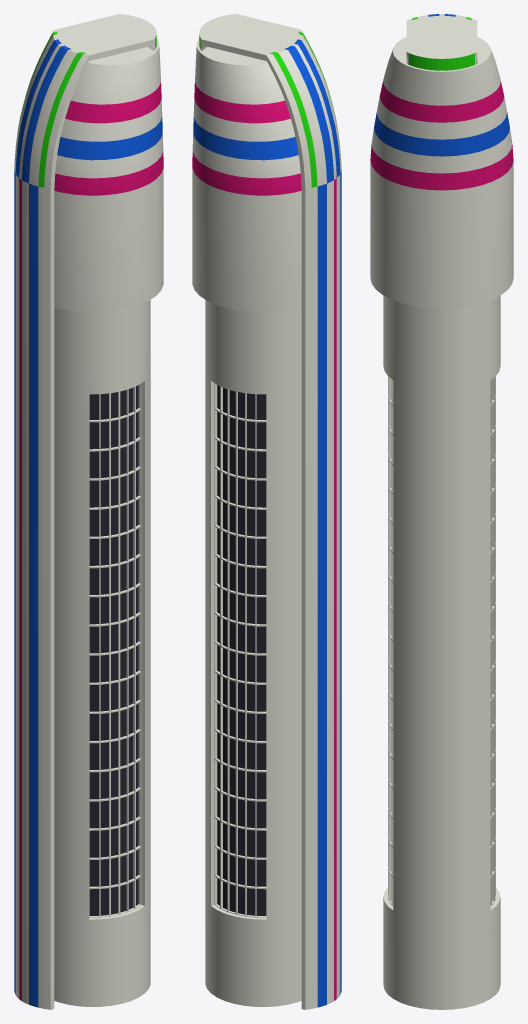
Rendered from StructinkBuilding.FBX.
3 views of the same model, side by side, from view 1: azimuth 30°, elevation 25°; view 2: azimuth 150°, elevation 25°; view 3: azimuth 270°, elevation 25° (orthographic).
Parts seen in each view (by area): view 1: StructinkBuilding; view 2: StructinkBuilding; view 3: StructinkBuilding.
Part boxes in pixels (x1,y1,x2,y2): StructinkBuilding: (14,14,163,1009); StructinkBuilding: (192,14,341,1009); StructinkBuilding: (370,14,513,1009).
Bounding box in the file's own units: 120 × 810 × 110.
